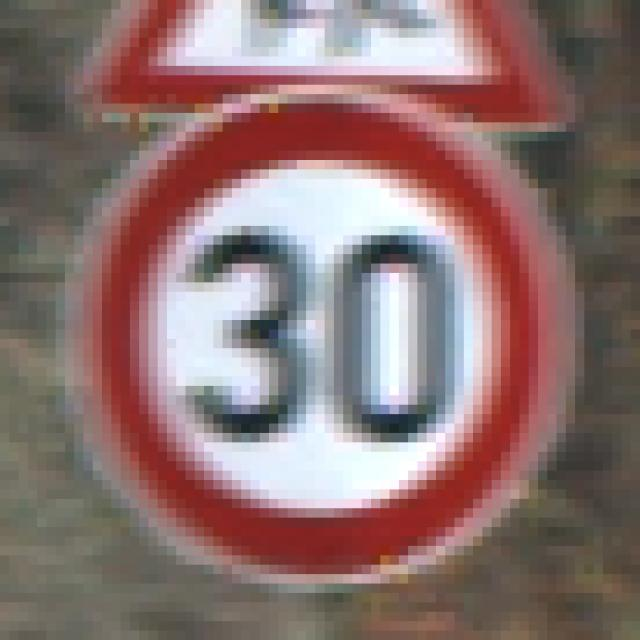Speed Limit -30-: (51, 52, 580, 569)
